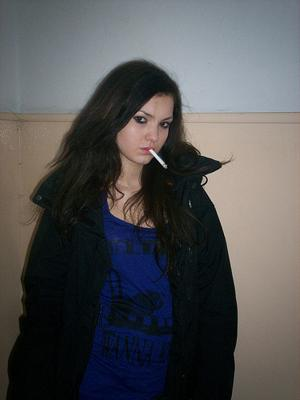person: (7, 58, 240, 400)
